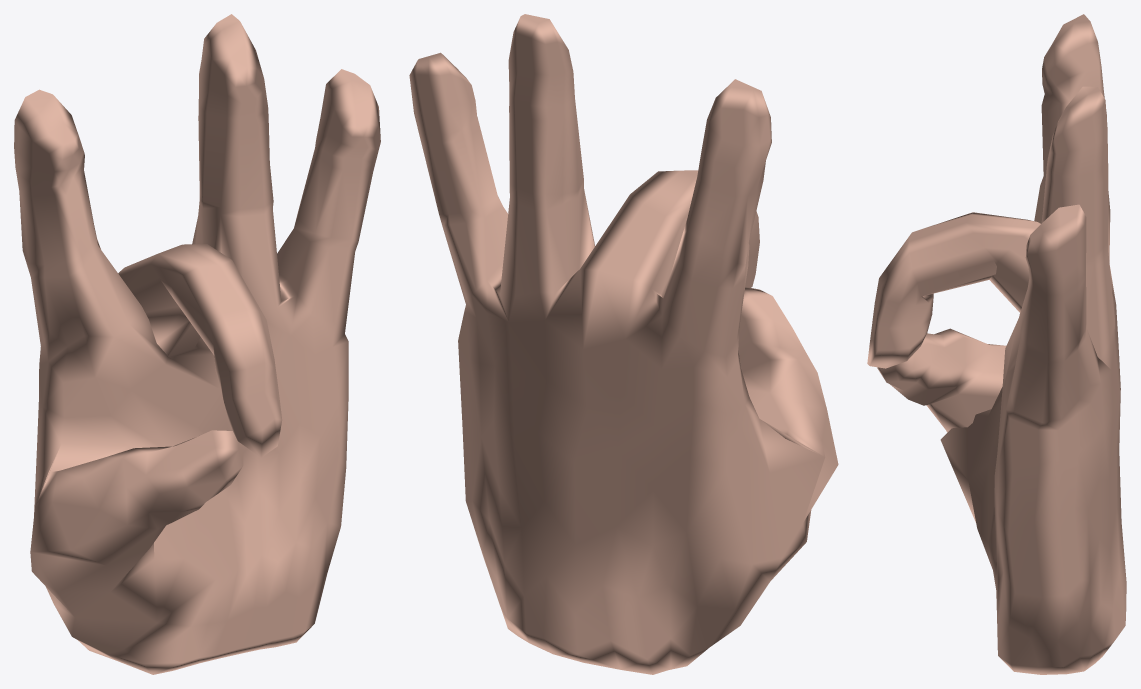
The model's file is MAO_PROFISSAO.obj.
3 views of the same model, side by side, from view 1: azimuth 30°, elevation 25°; view 2: azimuth 150°, elevation 25°; view 3: azimuth 270°, elevation 25° (orthographic). The views are drawn at different scales.
Visible parts, largest first — view 1: mao_dir polySurface1; view 2: mao_dir polySurface1; view 3: mao_dir polySurface1.
Boxes of the visible parts, x1,y1,x2,y2 form: mao_dir polySurface1: (14, 14, 380, 674); mao_dir polySurface1: (409, 14, 838, 674); mao_dir polySurface1: (867, 14, 1126, 674).
Size of the model in its own units: 150 by 234 by 96.01.
